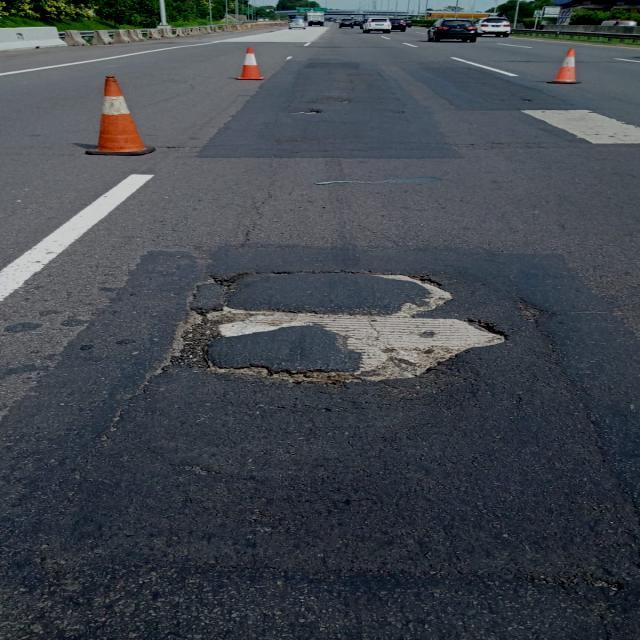Buraco: (132, 264, 515, 394), (285, 108, 323, 118)
